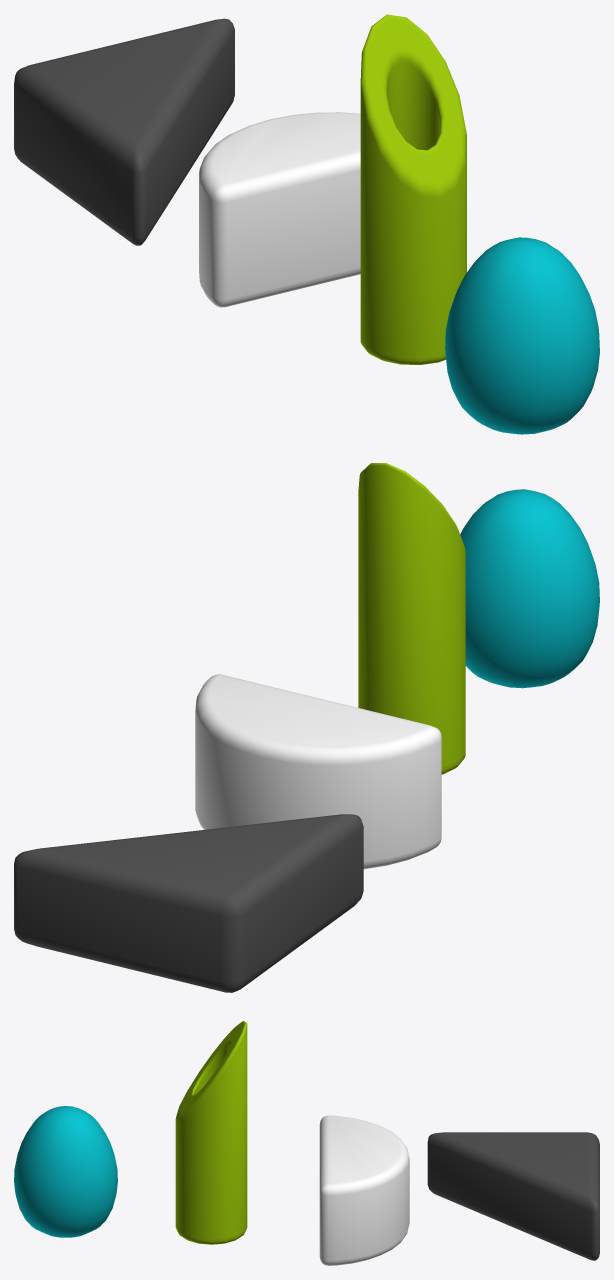
File: Oden.fbx
3 renders of one model, top to bottom at view 1: azimuth 30°, elevation 25°; view 2: azimuth 150°, elevation 25°; view 3: azimuth 270°, elevation 25°, orthographic. The views are drawn at different scales.
Visible parts, largest first — view 1: Konnyaku, Chikuwa, Daikon, Tamago; view 2: Konnyaku, Daikon, Chikuwa, Tamago; view 3: Konnyaku, Chikuwa, Daikon, Tamago.
Part boxes in pixels (x1,y1,x2,y2): Konnyaku: (14, 18, 234, 245); Chikuwa: (360, 14, 466, 364); Daikon: (199, 112, 360, 307); Tamago: (445, 237, 599, 434); Konnyaku: (14, 814, 363, 992); Daikon: (195, 674, 441, 869); Chikuwa: (358, 463, 465, 774); Tamago: (460, 489, 599, 688); Konnyaku: (427, 1132, 599, 1260); Chikuwa: (175, 1021, 247, 1244); Daikon: (319, 1115, 409, 1265); Tamago: (14, 1106, 117, 1237).
Size of the model in its own units: 199 by 257 by 653.
